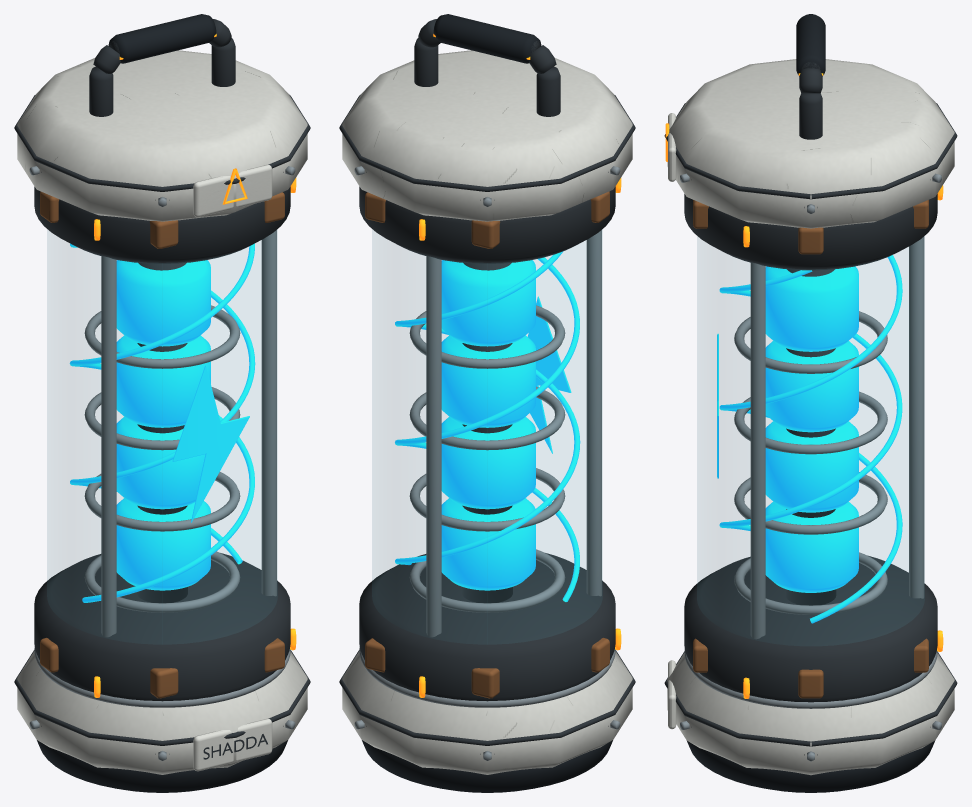
Rendered from shadda_power_cell.glb.
3 renders of one model, left to right at view 1: azimuth 30°, elevation 25°; view 2: azimuth 150°, elevation 25°; view 3: azimuth 270°, elevation 25°, orthographic.
Visible parts, largest first — view 1: CELL_TransparentShell, CELL_LowerArmor, CELL_LowerCollar, CELL_DockContact, CORE_Level_04, CORE_Level_01, CORE_Level_03, CORE_Level_02, CELL_BottomRubber, CORE_EnergySymbol, CELL_CollarCatch_29_0, CORE_Helix_1 (+9 smaller); view 2: CELL_TransparentShell, CELL_LowerArmor, CELL_LowerCollar, CELL_DockContact, CORE_Level_04, CORE_Level_02, CORE_Level_03, CORE_Level_01, CELL_BottomRubber, CELL_CollarCatch_29_0, CellHandle_Bar_0, CORE_Helix_0 (+8 smaller); view 3: CELL_TransparentShell, CELL_LowerArmor, CELL_LowerCollar, CELL_DockContact, CORE_Level_04, CORE_Level_01, CORE_Level_02, CORE_Level_03, CELL_BottomRubber, CELL_CollarCatch_29_0, CORE_Helix_0, CORE_Helix_1 (+8 smaller).
Part boxes in pixels (left/top/right/bottom): CELL_TransparentShell: left=47, top=230, right=277, bottom=643; CELL_LowerArmor: left=17, top=50, right=307, bottom=774; CELL_LowerCollar: left=14, top=94, right=310, bottom=754; CELL_DockContact: left=29, top=166, right=295, bottom=760; CORE_Level_04: left=116, top=260, right=210, bottom=346; CORE_Level_01: left=116, top=498, right=210, bottom=590; CORE_Level_03: left=116, top=335, right=210, bottom=427; CORE_Level_02: left=116, top=416, right=205, bottom=509; CELL_BottomRubber: left=37, top=740, right=287, bottom=792; CORE_EnergySymbol: left=172, top=365, right=249, bottom=522; CELL_CollarCatch_29_0: left=40, top=191, right=284, bottom=698; CORE_Helix_1: left=69, top=243, right=254, bottom=602; CELL_TransparentShell: left=372, top=230, right=602, bottom=643; CELL_LowerArmor: left=342, top=50, right=632, bottom=774; CELL_LowerCollar: left=339, top=94, right=635, bottom=754; CELL_DockContact: left=354, top=166, right=620, bottom=760; CORE_Level_04: left=441, top=260, right=535, bottom=346; CORE_Level_02: left=441, top=416, right=535, bottom=509; CORE_Level_03: left=441, top=335, right=535, bottom=427; CORE_Level_01: left=441, top=498, right=535, bottom=590; CELL_BottomRubber: left=362, top=740, right=612, bottom=792; CELL_CollarCatch_29_0: left=365, top=191, right=609, bottom=698; CellHandle_Bar_0: left=414, top=19, right=560, bottom=116; CORE_Helix_0: left=395, top=251, right=580, bottom=564; CELL_TransparentShell: left=697, top=237, right=924, bottom=645; CELL_LowerArmor: left=667, top=59, right=954, bottom=775; CELL_LowerCollar: left=664, top=103, right=957, bottom=755; CELL_DockContact: left=680, top=173, right=941, bottom=761; CORE_Level_04: left=765, top=266, right=858, bottom=351; CORE_Level_01: left=765, top=501, right=858, bottom=592; CORE_Level_02: left=765, top=421, right=858, bottom=512; CORE_Level_03: left=765, top=341, right=858, bottom=432; CELL_BottomRubber: left=687, top=741, right=934, bottom=792; CELL_CollarCatch_29_0: left=693, top=200, right=928, bottom=698; CORE_Helix_0: left=719, top=255, right=902, bottom=623; CORE_Helix_1: left=719, top=270, right=902, bottom=530.
Bounding box in the file's own units: 0.0683 × 0.18 × 0.067.
Materials: 10 (1 with a texture image).
